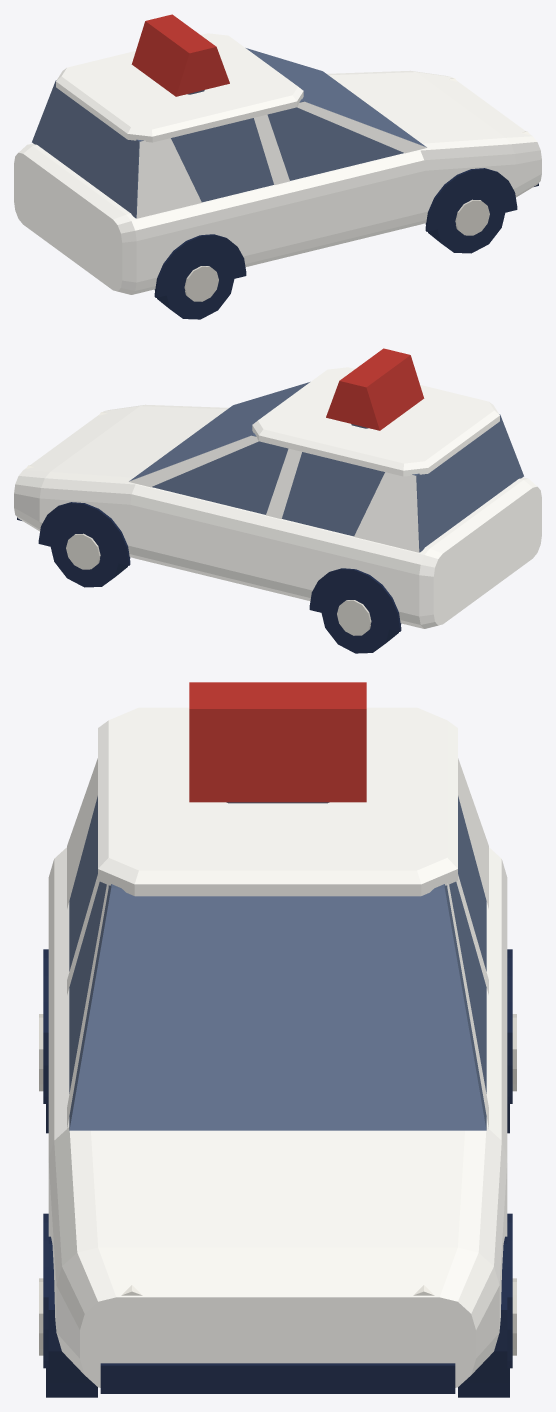
The model's file is taxi.glb.
3 renders of one model, top to bottom at view 1: azimuth 30°, elevation 25°; view 2: azimuth 150°, elevation 25°; view 3: azimuth 270°, elevation 25°, orthographic. The views are drawn at different scales.
Parts seen in each view (by area): view 1: model; view 2: model; view 3: model.
Boxes of the visible parts, bbox=[...] form: model: bbox=[14, 14, 541, 319]; model: bbox=[14, 348, 541, 653]; model: bbox=[39, 682, 516, 1397].
Size of the model in its own units: 3.78 by 1.98 by 1.83.
